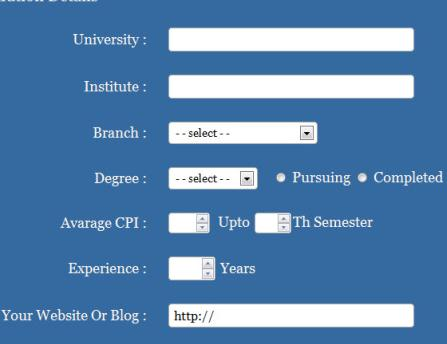field: (166, 301, 415, 330), (166, 71, 417, 99), (166, 25, 417, 52), (167, 120, 320, 145), (167, 166, 261, 192), (166, 254, 217, 283), (167, 211, 212, 236), (252, 211, 293, 236)
field_with_label: (2, 301, 418, 331), (73, 23, 419, 55), (83, 71, 419, 102), (92, 118, 322, 146), (94, 163, 264, 194), (69, 252, 217, 283), (59, 210, 213, 236)
radio: (275, 170, 286, 185), (356, 170, 368, 183)
radio_with_label: (354, 168, 444, 186), (273, 167, 349, 187)
